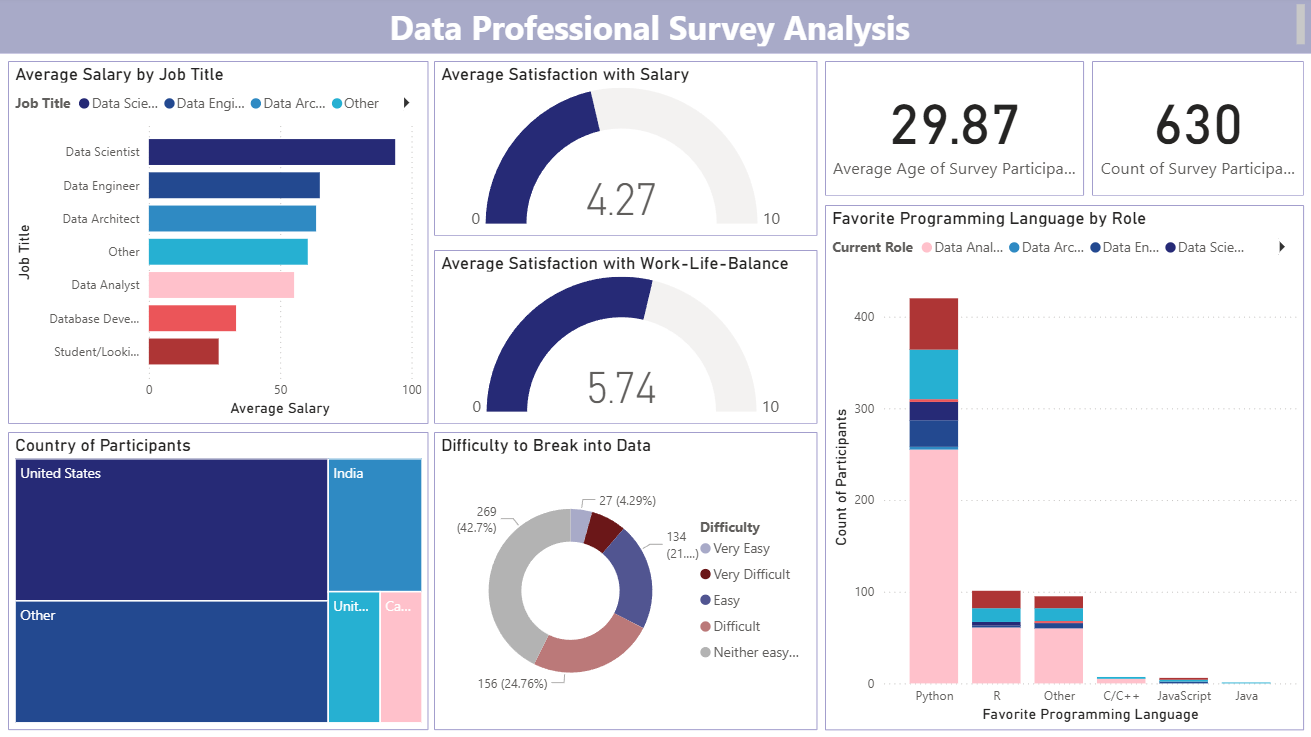

This screenshot's page, from the dashboard's own definition file:
{"tool":"powerbi","page":{"name":"Page 1","canvas":[1280,720],"ordinal":0},"visuals":[{"type":"textbox","box":[0,0,1280,55.4],"z":0},{"type":"card","fields":{"Values":["CountNonNull(Data Professional Survey.Unique ID)"]},"box":[1066,62.2,206.2,131.3],"z":1000},{"type":"card","fields":{"Values":["Avg(Data Professional Survey.Q10 - Current Age)"]},"box":[806.3,62.2,251.9,131.3],"z":2000},{"type":"barChart","title":"Average Salary by Job Title","fields":{"Category":["Data Professional Survey.Q1 - Which Title Best Fits your Current Role?"],"Y":["Avg(Data Professional Survey.Avg Salary)"],"Series":["Data Professional Survey.Q1 - Which Title Best Fits your Current Role?"]},"box":[11.7,62.2,409.5,353.1],"z":3000},{"type":"columnChart","title":"Favorite Programming Language by Role","fields":{"Category":["Data Professional Survey.Q5 - Favorite Programming Language"],"Y":["CountNonNull(Data Professional Survey.Unique ID)"],"Series":["Data Professional Survey.Q1 - Which Title Best Fits your Current Role?"]},"box":[806.3,202.3,465.9,510.6],"z":4000},{"type":"treemap","title":"Country of Participants","fields":{"Group":["Data Professional Survey.Q11 - Which Country do you live in?"],"Values":["CountNonNull(Data Professional Survey.Q11 - Which Country do you live in?)"]},"box":[11.7,423.1,409.5,289.8],"z":5000},{"type":"gauge","title":"Average Satisfaction with Salary","fields":{"Y":["Avg(Data Professional Survey.Q6 - How Happy are you in your Current Position with the following? (Salary))"],"MinValue":["Min(Data Professional Survey.Q6 - How Happy are you in your Current Position with the following? (Salary))"],"MaxValue":["Max(Data Professional Survey.Q6 - How Happy are you in your Current Position with the following? (Salary))"]},"box":[426,62.2,373.5,170.2],"z":6000},{"type":"gauge","title":"Average Satisfaction with Work-Life-Balance","fields":{"Y":["Avg(Data Professional Survey.Q6 - How Happy are you in your Current Position with the following? (Work/Life Balance))"],"MinValue":["Min(Data Professional Survey.Q6 - How Happy are you in your Current Position with the following? (Work/Life Balance))"],"MaxValue":["Max(Data Professional Survey.Q6 - How Happy are you in your Current Position with the following? (Work/Life Balance))1"]},"box":[426,246.1,373.5,169.2],"z":7000},{"type":"donutChart","title":"Difficulty to Break into Data","fields":{"Category":["Data Professional Survey.Q7 - How difficult was it for you to break into Data?"],"Y":["CountNonNull(Data Professional Survey.Q7 - How difficult was it for you to break into Data?)"]},"box":[426,423.1,373.5,289.8],"z":8000}]}

Visuals, with their boxes in screenshot pixels (x1, y1, x2, y2), scaled from the page's 1280x720 canvas onto the 1311x737 screenshot:
textbox: rect(0, 0, 1310, 57)
card - CountNonNull(Data Professional Survey.Unique ID): rect(1092, 64, 1303, 198)
card - Avg(Data Professional Survey.Q10 - Current Age): rect(826, 64, 1084, 198)
"Average Salary by Job Title" barChart: rect(12, 64, 431, 425)
"Favorite Programming Language by Role" columnChart: rect(826, 207, 1303, 730)
"Country of Participants" treemap: rect(12, 433, 431, 730)
"Average Satisfaction with Salary" gauge: rect(436, 64, 819, 238)
"Average Satisfaction with Work-Life-Balance" gauge: rect(436, 252, 819, 425)
"Difficulty to Break into Data" donutChart: rect(436, 433, 819, 730)
